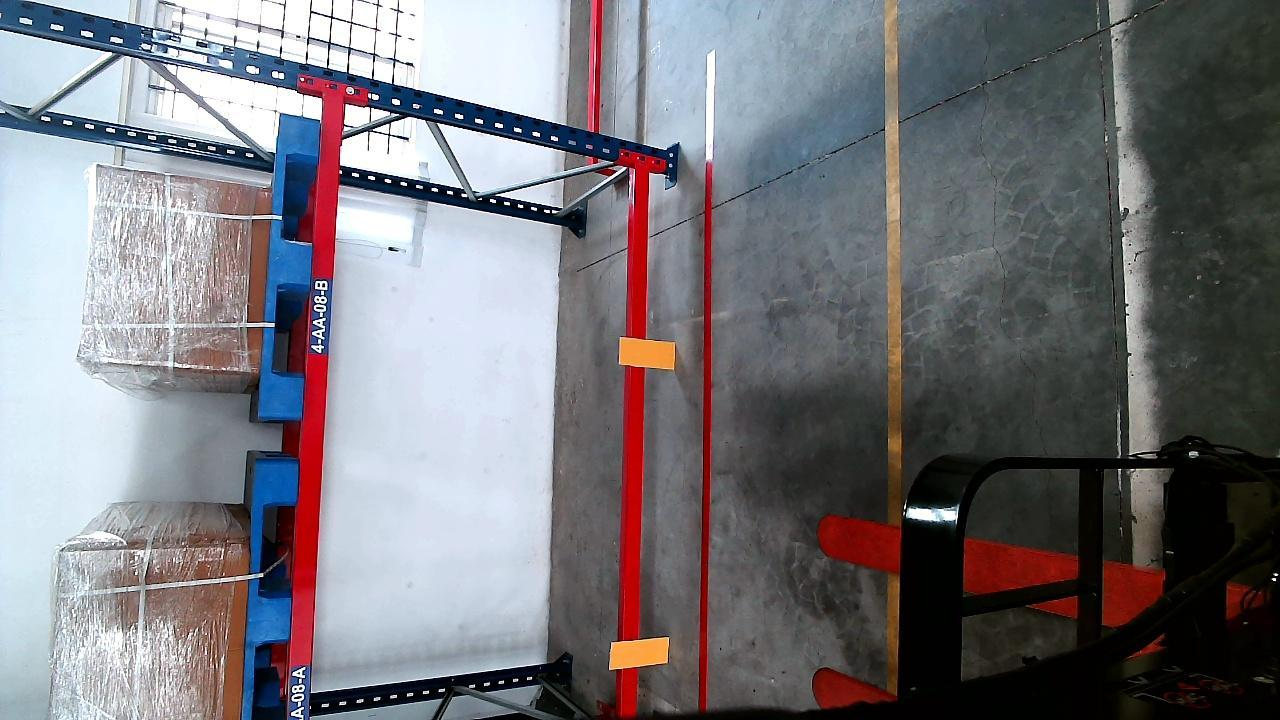red_line: (692, 158, 723, 710)
yellow_line: (882, 2, 908, 507)
